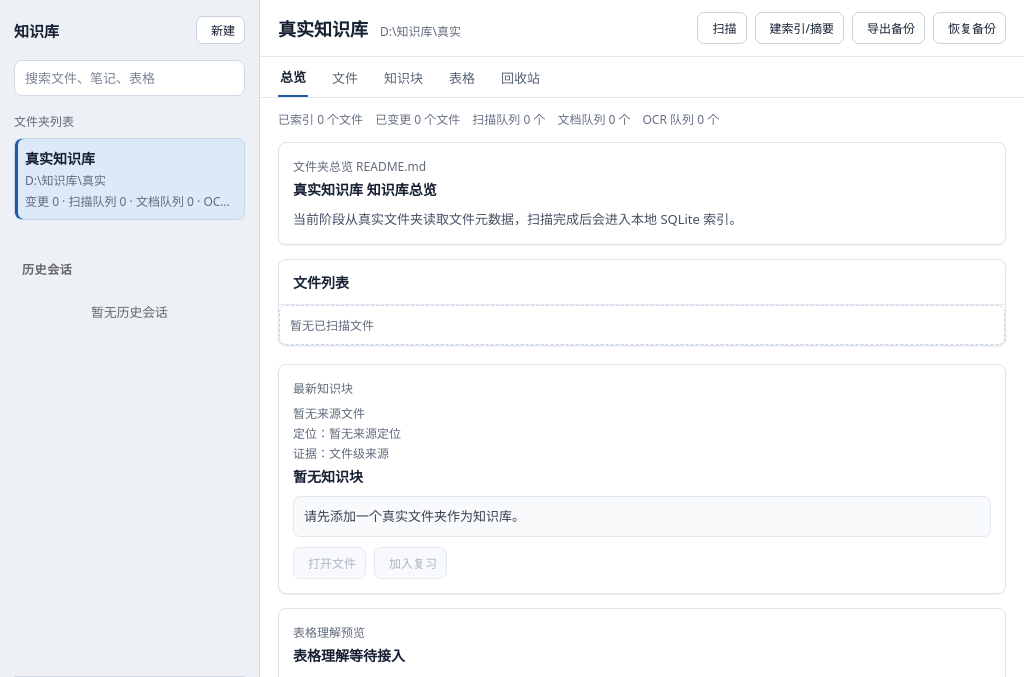
it: App › exports a local backup from the folder toolbar
Check: the heading "真实知识库" is shown, box top-left (278, 15), bottom-right (368, 41)
Click the button "导出备份": (888, 28) top-left (852, 12), bottom-right (925, 44)
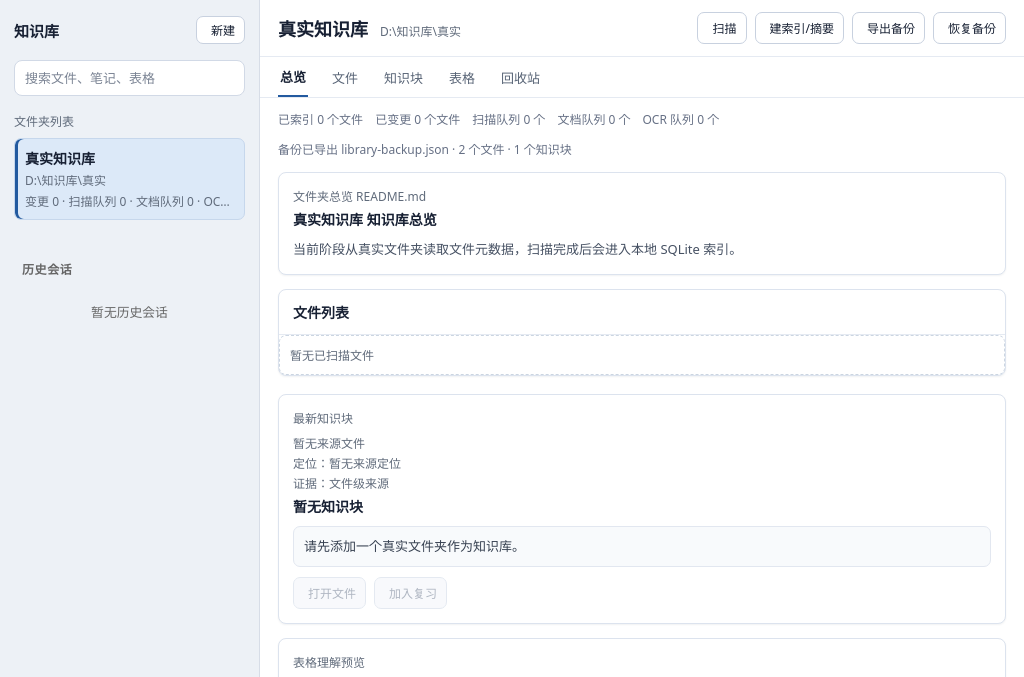
Check: the text "备份已导出 library-backup.json · 2 个文件 · 1 个知识块" is shown, box top-left (278, 140), bottom-right (572, 158)
